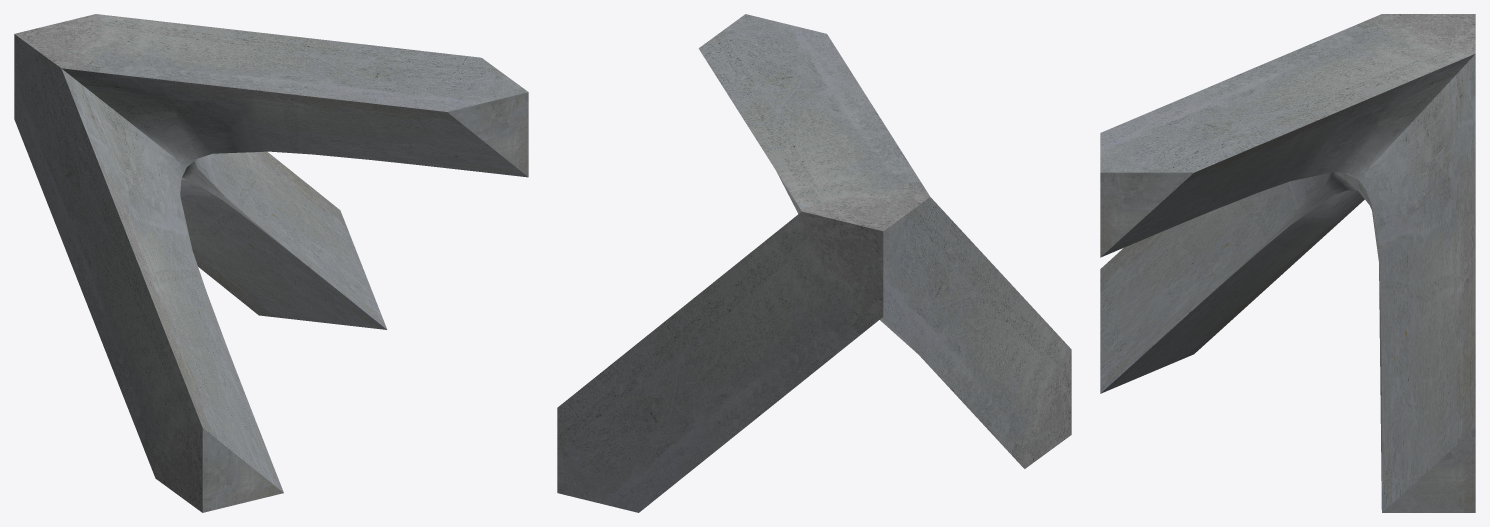
The model's file is module_Q4.fbx.
3 renders of one model, left to right at view 1: azimuth 30°, elevation 25°; view 2: azimuth 150°, elevation 25°; view 3: azimuth 270°, elevation 25°, orthographic.
Visible parts, largest first — view 1: modules; view 2: modules; view 3: modules.
Part boxes in pixels (x1=…): modules: x1=14, y1=14, x2=528, y2=512; modules: x1=557, y1=14, x2=1071, y2=512; modules: x1=1100, y1=14, x2=1475, y2=512.
Bounding box in the file's own units: 1000 × 1000 × 1000.
1 material, 1 textured.
